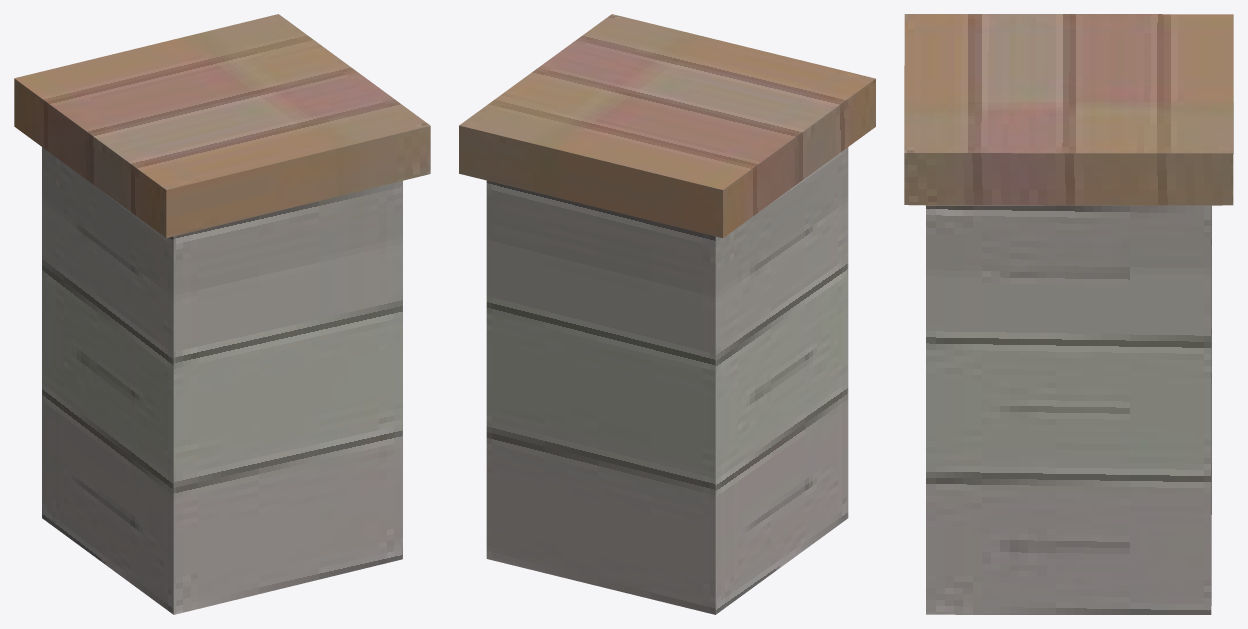
Rendered from drawer.glb.
The picture shows the model from 3 angles, left to right: view 1: azimuth 30°, elevation 25°; view 2: azimuth 150°, elevation 25°; view 3: azimuth 270°, elevation 25°; orthographic projection. The views are drawn at different scales.
Parts seen in each view (by area): view 1: Props.267; view 2: Props.267; view 3: Props.267.
Boxes of the visible parts, bbox=[...] form: Props.267: bbox=[14, 14, 430, 614]; Props.267: bbox=[459, 14, 875, 614]; Props.267: bbox=[904, 14, 1233, 614].
Bounding box in the file's own units: 0.2214 × 0.349 × 0.2214.
Materials: 1 (1 with a texture image).
